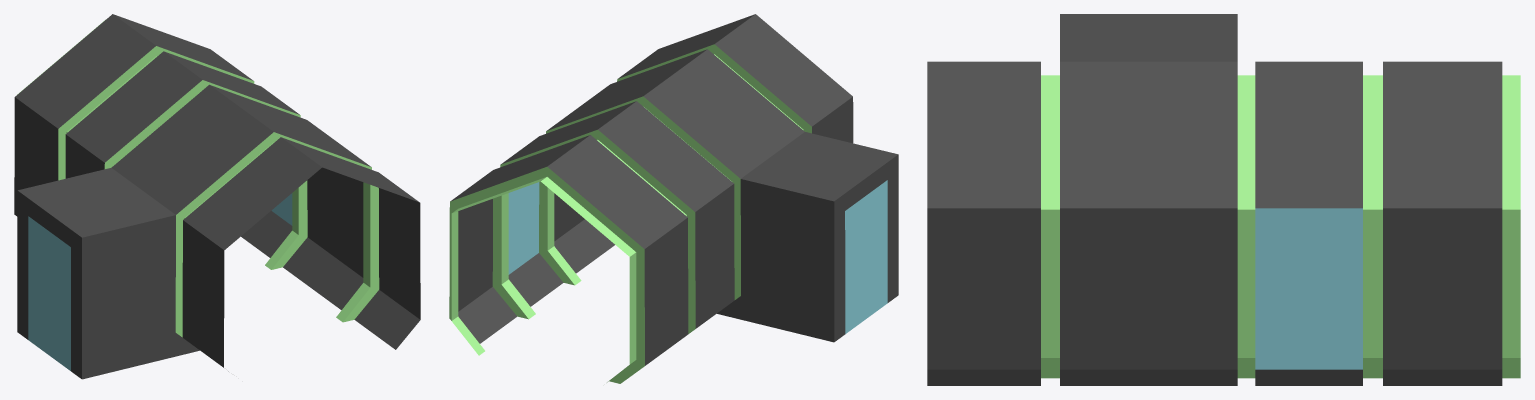
The model's file is Corridor_door.FBX.
3 renders of one model, left to right at view 1: azimuth 30°, elevation 25°; view 2: azimuth 150°, elevation 25°; view 3: azimuth 270°, elevation 25°, orthographic. The views are drawn at different scales.
Parts seen in each view (by area): view 1: Corridor_door; view 2: Corridor_door; view 3: Corridor_door.
Part boxes in pixels (x1,y1,x2,y2): Corridor_door: (14, 14, 420, 379); Corridor_door: (449, 14, 898, 383); Corridor_door: (927, 14, 1520, 385).
Size of the model in its own units: 211 by 139 by 272.
